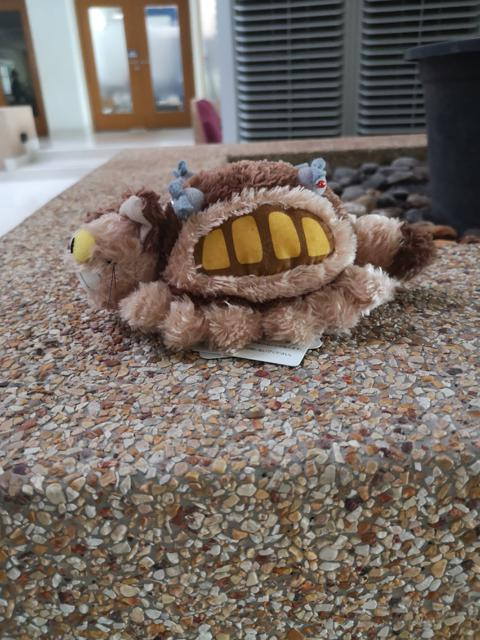nekobus: (62, 151, 441, 365)
